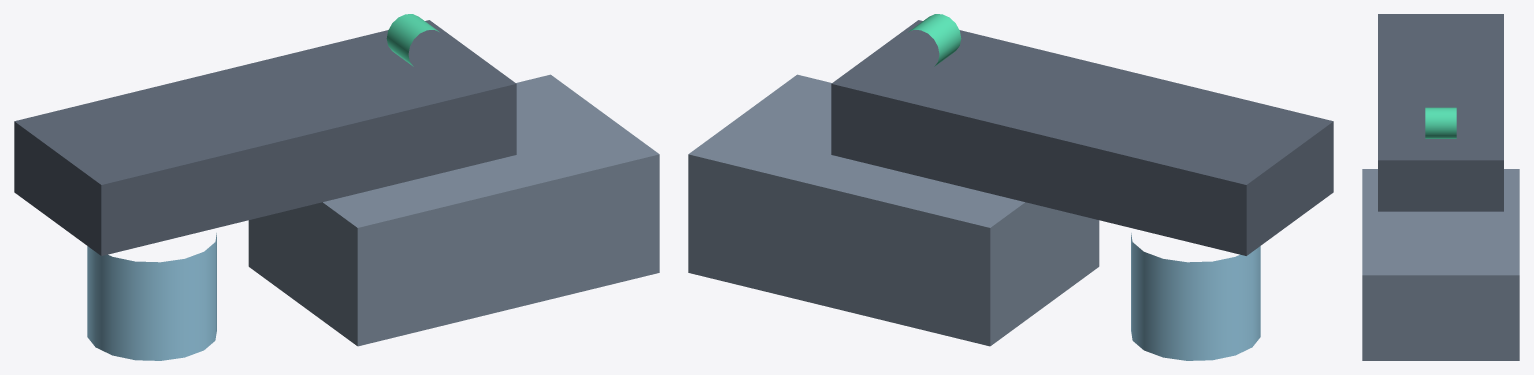
Rendered from flipflops_counters_registers.glb.
3 views of the same model, side by side, from view 1: azimuth 30°, elevation 25°; view 2: azimuth 150°, elevation 25°; view 3: azimuth 270°, elevation 25° (orthographic). The views are drawn at different scales.
Visible parts, largest first — view 1: MasterSlaveJKFlipFlopIC, FourBitRippleCounterModule, ClockPulse555TimerUnit, FourBitRegisterLEDOutputBar; view 2: MasterSlaveJKFlipFlopIC, FourBitRippleCounterModule, ClockPulse555TimerUnit, FourBitRegisterLEDOutputBar; view 3: FourBitRippleCounterModule, MasterSlaveJKFlipFlopIC, FourBitRegisterLEDOutputBar.
Boxes of the visible parts, x1,y1,x2,y2 form: MasterSlaveJKFlipFlopIC: [14, 20, 516, 255]; FourBitRippleCounterModule: [248, 74, 659, 346]; ClockPulse555TimerUnit: [87, 233, 216, 360]; FourBitRegisterLEDOutputBar: [386, 14, 439, 66]; MasterSlaveJKFlipFlopIC: [831, 20, 1333, 255]; FourBitRippleCounterModule: [688, 74, 1099, 346]; ClockPulse555TimerUnit: [1131, 233, 1260, 360]; FourBitRegisterLEDOutputBar: [908, 14, 961, 66]; FourBitRippleCounterModule: [1362, 169, 1519, 360]; MasterSlaveJKFlipFlopIC: [1378, 14, 1503, 211]; FourBitRegisterLEDOutputBar: [1425, 107, 1456, 138].
Bounding box in the file's own units: 1.45 × 0.65 × 0.5.
